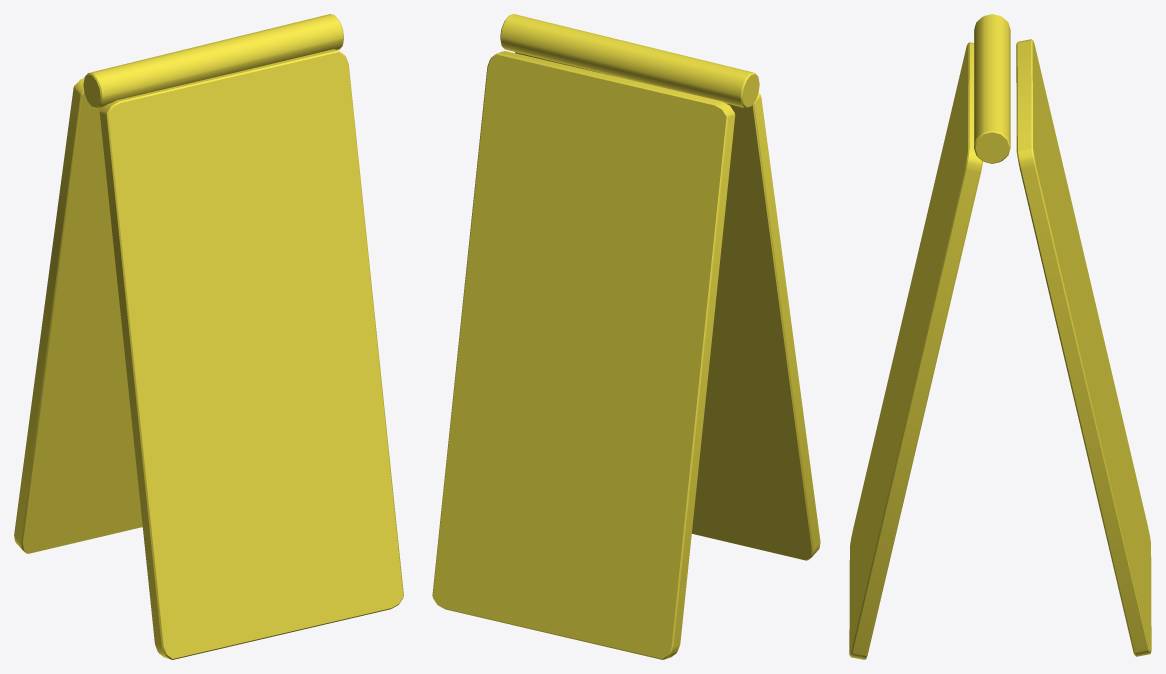
File: LV_wet_floor_sign.fbx
3 renders of one model, left to right at view 1: azimuth 30°, elevation 25°; view 2: azimuth 150°, elevation 25°; view 3: azimuth 270°, elevation 25°, orthographic.
Parts seen in each view (by area): view 1: LV_wet_floor_sign; view 2: LV_wet_floor_sign; view 3: LV_wet_floor_sign.
Part boxes in pixels (bbox=[...]): LV_wet_floor_sign: bbox=[14, 14, 403, 659]; LV_wet_floor_sign: bbox=[432, 14, 820, 659]; LV_wet_floor_sign: bbox=[849, 14, 1151, 659].
Bounding box in the file's own units: 0.3 × 0.6367 × 0.3259.
